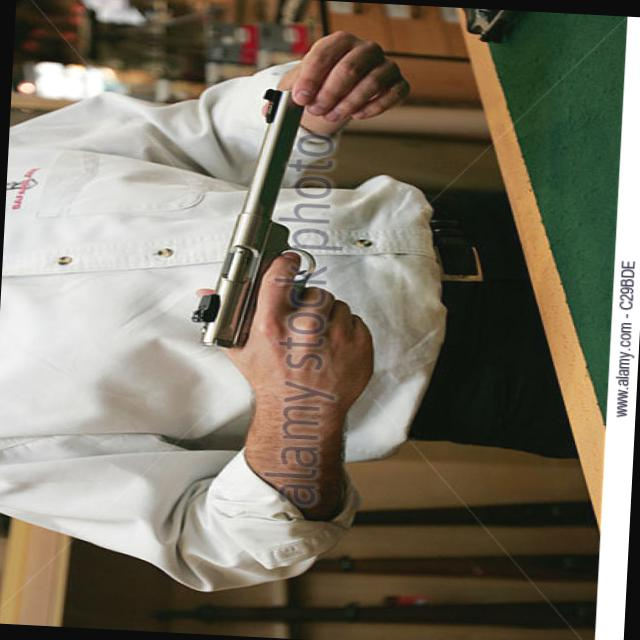handgun: (173, 84, 398, 366)
